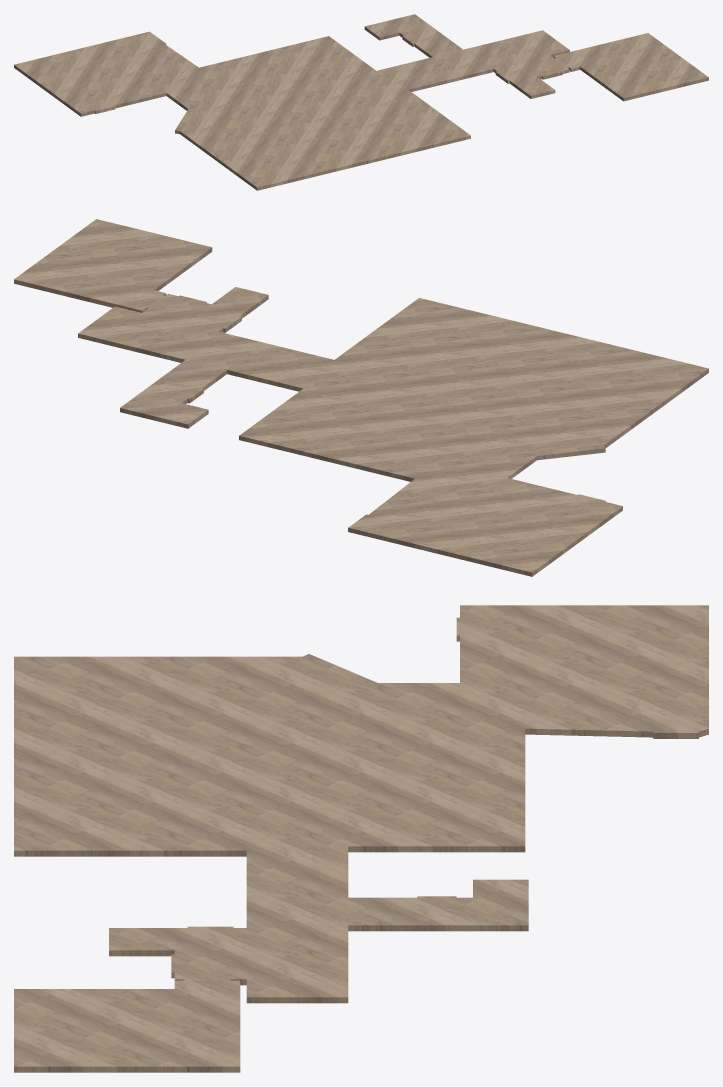
Rendered from Floor_RivergroveValorOak.glb.
3 renders of one model, top to bottom at view 1: azimuth 30°, elevation 25°; view 2: azimuth 150°, elevation 25°; view 3: azimuth 270°, elevation 25°, orthographic. The views are drawn at different scales.
Visible parts, largest first — view 1: Floors_Rivergrove_valor_oak; view 2: Floors_Rivergrove_valor_oak; view 3: Floors_Rivergrove_valor_oak.
Part boxes in pixels (<box>): Floors_Rivergrove_valor_oak: <box>14,14,708,190</box>; Floors_Rivergrove_valor_oak: <box>14,219,708,576</box>; Floors_Rivergrove_valor_oak: <box>14,605,708,1072</box>.
Size of the model in its own units: 33.3 by 0.3 by 21.2.
1 material, 1 textured.
